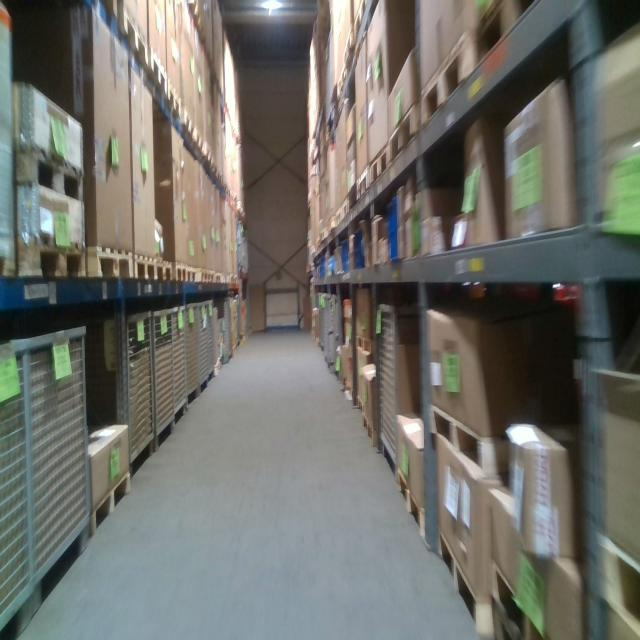pallet: (429, 399, 508, 484), (419, 25, 476, 142), (439, 525, 495, 637), (473, 1, 540, 93), (12, 142, 85, 210), (596, 524, 639, 637), (15, 227, 87, 287), (91, 464, 132, 539), (396, 466, 431, 552), (85, 242, 135, 288), (116, 3, 148, 71), (390, 98, 418, 166), (148, 40, 169, 103), (132, 248, 159, 290), (369, 145, 389, 196), (167, 73, 182, 124), (155, 252, 175, 288), (355, 162, 370, 208), (354, 326, 374, 355), (173, 258, 189, 288), (364, 412, 376, 444), (197, 263, 210, 288), (188, 263, 197, 291)
stillage: (29, 321, 94, 629), (93, 301, 155, 495), (1, 338, 31, 636), (374, 305, 420, 492), (153, 304, 173, 456), (185, 302, 200, 414), (173, 301, 185, 440), (331, 294, 346, 386), (219, 295, 234, 368), (199, 296, 209, 401), (207, 295, 217, 396), (314, 288, 327, 358), (324, 295, 335, 371), (237, 224, 247, 271)
